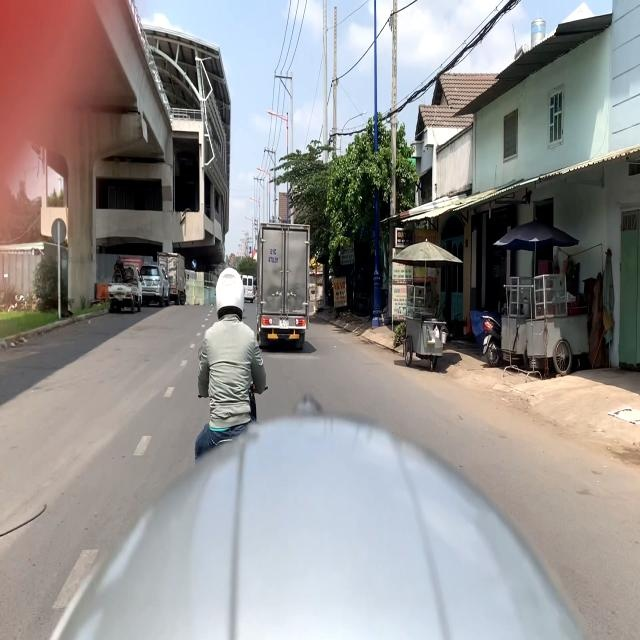bien_hieu_lenh: (191, 258, 197, 270)
